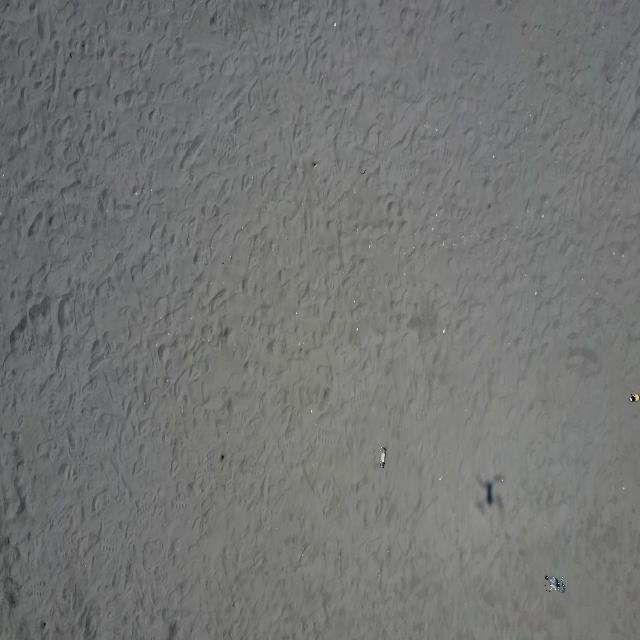glass: (544, 575, 564, 593), (380, 446, 386, 470), (629, 394, 639, 402)
